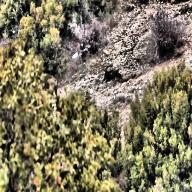boar: (102, 66, 122, 84)
